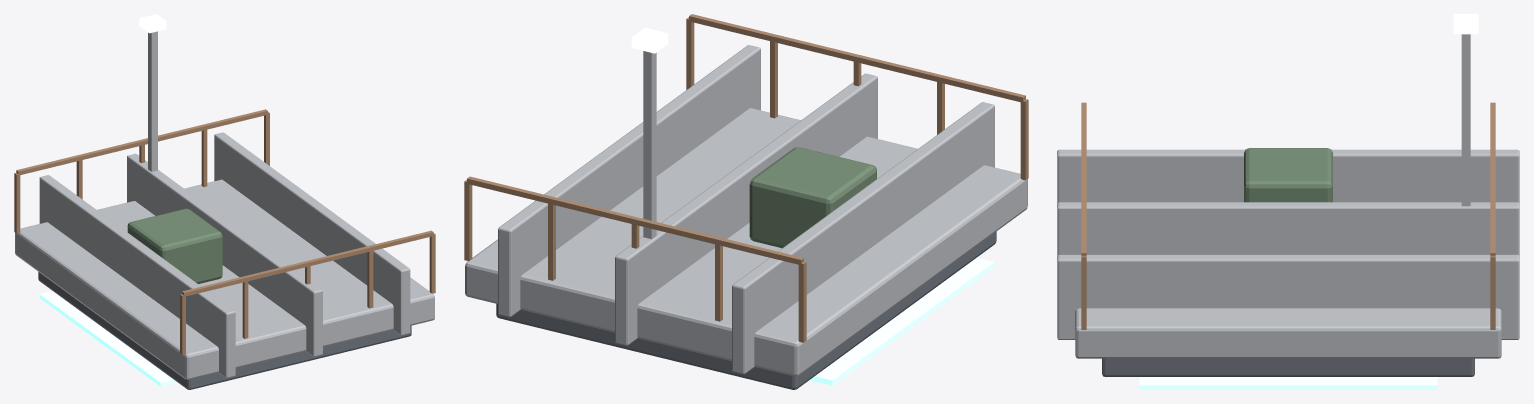
The model's file is bridgew_2.glb.
3 views of the same model, side by side, from view 1: azimuth 30°, elevation 25°; view 2: azimuth 150°, elevation 25°; view 3: azimuth 270°, elevation 25° (orthographic). The views are drawn at different scales.
Visible parts, largest first — view 1: ext_bridge_ribs, ext_bridge_floor, ext_bridge_rail, ext_bridge_plants, ext_bridge_under, ext_bridge_glow, ext_lamp0, ext_lamp_glow0; view 2: ext_bridge_ribs, ext_bridge_floor, ext_bridge_rail, ext_bridge_plants, ext_bridge_under, ext_bridge_glow, ext_lamp0, ext_lamp_glow0; view 3: ext_bridge_ribs, ext_bridge_floor, ext_bridge_under, ext_bridge_plants, ext_bridge_glow, ext_bridge_rail, ext_lamp0, ext_lamp_glow0.
Boxes of the visible parts, x1=… form: ext_bridge_ribs: x1=39, y1=132, x2=410, y2=378; ext_bridge_floor: x1=15, y1=179, x2=434, y2=379; ext_bridge_rail: x1=14, y1=109, x2=435, y2=354; ext_bridge_plants: x1=127, y1=208, x2=222, y2=283; ext_bridge_under: x1=38, y1=272, x2=411, y2=389; ext_bridge_glow: x1=39, y1=291, x2=177, y2=386; ext_lamp0: x1=148, y1=31, x2=157, y2=171; ext_lamp_glow0: x1=139, y1=14, x2=166, y2=33; ext_bridge_ribs: x1=498, y1=45, x2=994, y2=374; ext_bridge_floor: x1=465, y1=108, x2=1027, y2=376; ext_bridge_rail: x1=464, y1=14, x2=1028, y2=342; ext_bridge_plants: x1=749, y1=147, x2=876, y2=248; ext_bridge_under: x1=496, y1=231, x2=996, y2=389; ext_bridge_glow: x1=809, y1=257, x2=994, y2=385; ext_lamp0: x1=643, y1=51, x2=656, y2=239; ext_lamp_glow0: x1=631, y1=27, x2=668, y2=53; ext_bridge_ribs: x1=1057, y1=149, x2=1519, y2=339; ext_bridge_floor: x1=1075, y1=308, x2=1501, y2=358; ext_bridge_under: x1=1102, y1=358, x2=1474, y2=376; ext_bridge_plants: x1=1244, y1=148, x2=1332, y2=202; ext_bridge_glow: x1=1139, y1=377, x2=1437, y2=389; ext_bridge_rail: x1=1081, y1=102, x2=1495, y2=329; ext_lamp0: x1=1461, y1=34, x2=1470, y2=206; ext_lamp_glow0: x1=1453, y1=14, x2=1478, y2=34.
Bounding box in the file's own units: 2.03 × 1.83 × 2.6.
